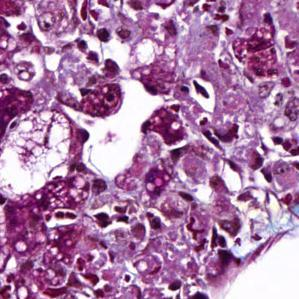ballooning: (0, 108, 73, 201)
